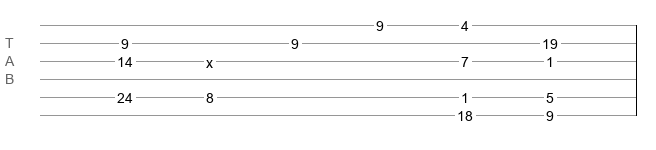1: (461, 90, 469, 100), (546, 54, 554, 64)
14: (117, 54, 133, 64)
18: (457, 108, 473, 118)
19: (542, 36, 558, 46)
24: (117, 90, 133, 100)
4: (461, 18, 469, 28)
5: (546, 90, 554, 100)
7: (461, 54, 469, 64)
8: (206, 90, 214, 100)
9: (121, 36, 129, 46), (291, 36, 299, 46), (376, 18, 384, 28), (546, 108, 554, 118)
x: (206, 55, 213, 63)
